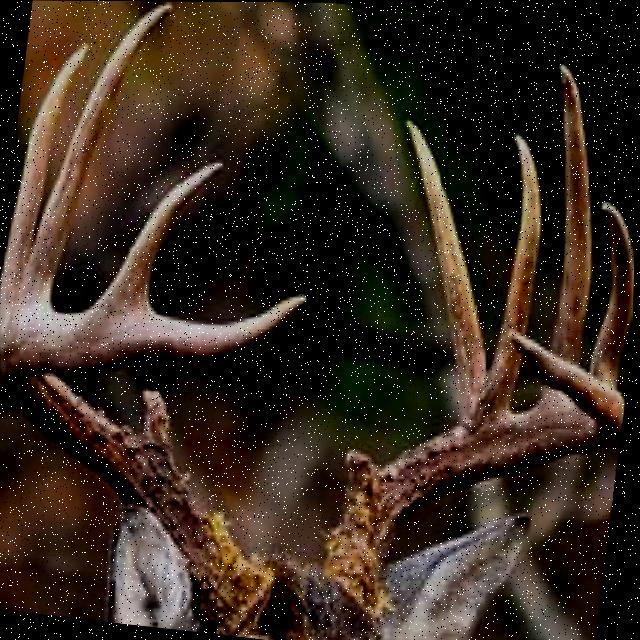L-F: (319, 327, 627, 615)
L-G1: (344, 447, 382, 506)
L-G2: (405, 116, 486, 421)
L-G3: (461, 126, 543, 423)
R-F: (1, 290, 309, 637)
R-G1: (137, 385, 174, 465)
R-G3: (14, 1, 175, 317)
R-G4: (94, 159, 226, 312)
